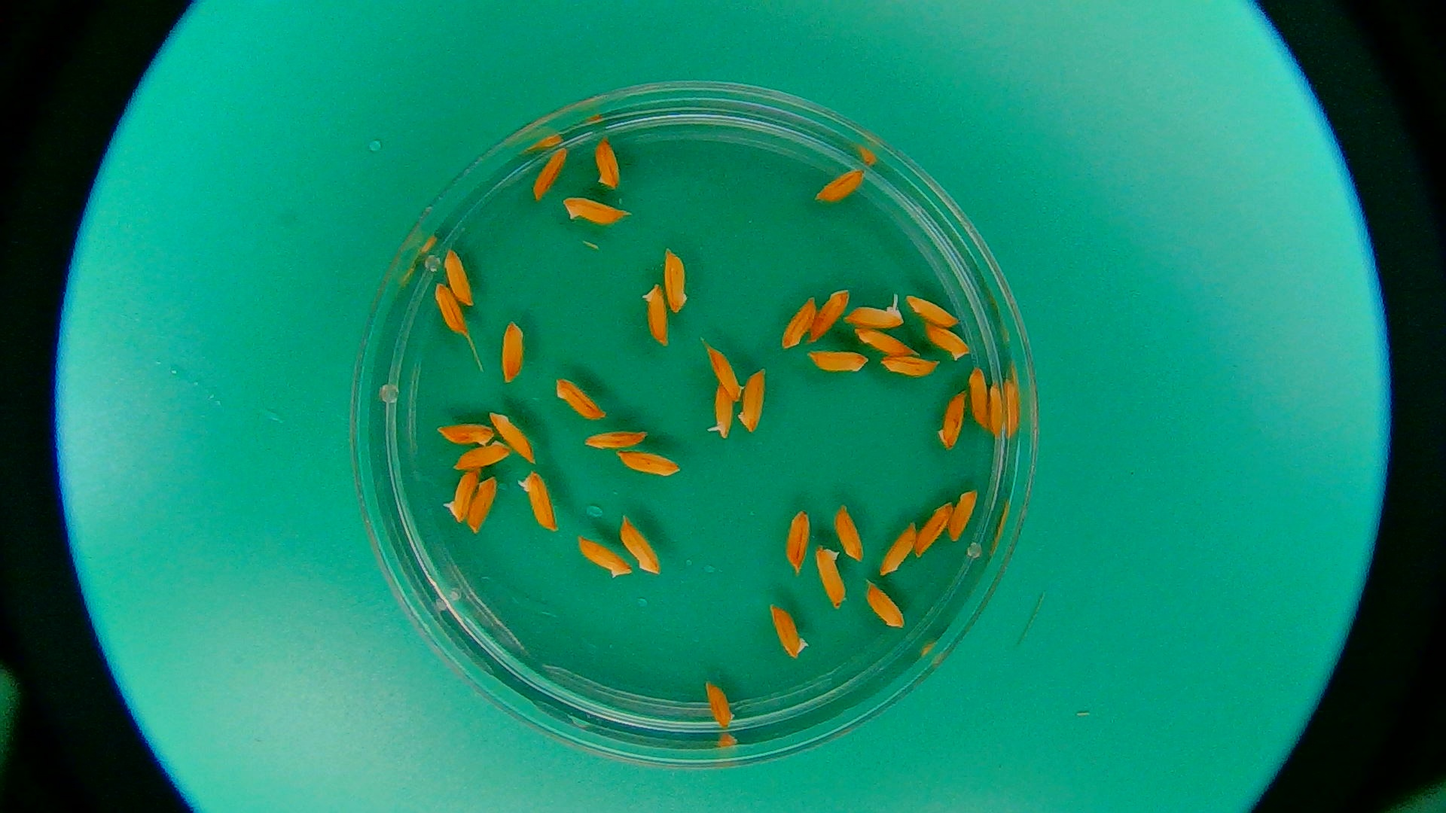no: (487, 413, 541, 467), (767, 599, 813, 662), (701, 339, 746, 403), (548, 374, 606, 422), (808, 282, 851, 345), (617, 513, 660, 574), (575, 534, 632, 580), (813, 540, 849, 608), (913, 499, 953, 560), (811, 166, 870, 206), (560, 194, 630, 227), (614, 449, 684, 482), (877, 519, 915, 577), (450, 437, 512, 472), (850, 326, 920, 357), (532, 146, 569, 202), (922, 320, 971, 362), (499, 318, 529, 385), (641, 282, 671, 349), (737, 367, 767, 434), (865, 583, 906, 632), (834, 501, 865, 565), (780, 296, 816, 351), (785, 511, 814, 579), (441, 248, 474, 307), (949, 484, 978, 549), (936, 391, 968, 449), (432, 280, 467, 333), (592, 136, 624, 193), (467, 474, 496, 536), (664, 246, 690, 315), (702, 677, 735, 731), (904, 295, 959, 327), (435, 422, 493, 451), (806, 349, 868, 375), (966, 367, 990, 434), (582, 428, 651, 451), (966, 365, 990, 429), (880, 355, 941, 379), (986, 376, 1007, 440)
yes: (517, 470, 562, 532), (443, 467, 480, 522), (846, 300, 906, 330), (709, 379, 734, 440)
